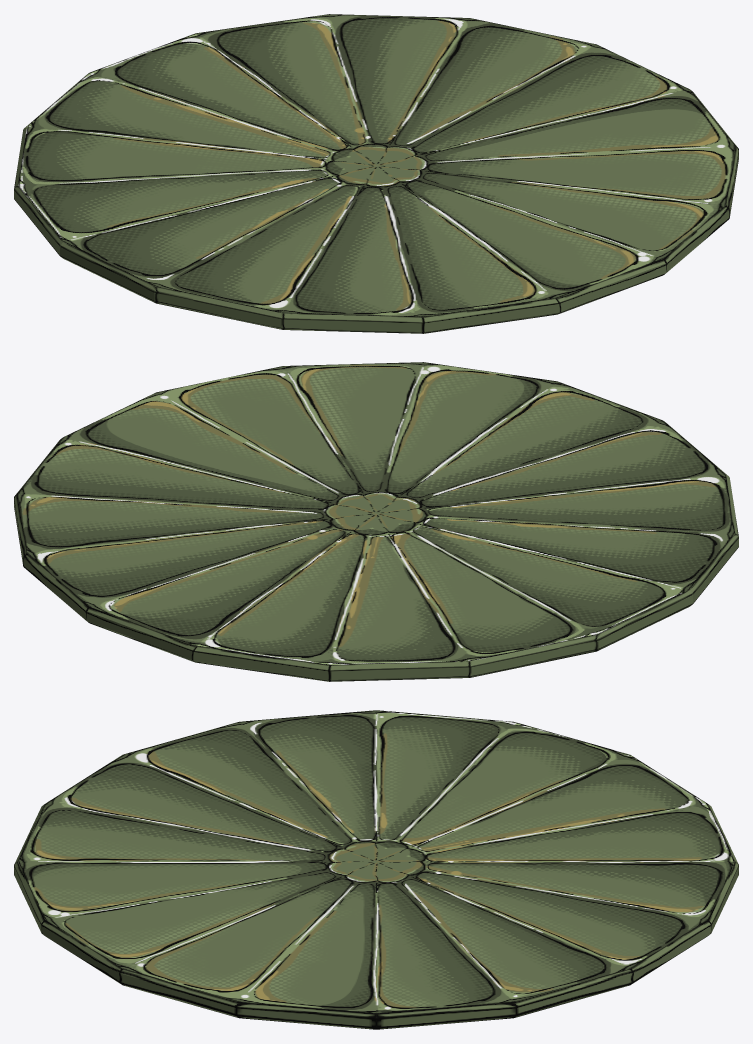
The model's file is GreenLilyPads-mockup002.fbx.
3 views of the same model, one above another, from view 1: azimuth 30°, elevation 25°; view 2: azimuth 150°, elevation 25°; view 3: azimuth 270°, elevation 25° (orthographic).
Parts seen in each view (by area): view 1: Cylinder.001; view 2: Cylinder.001; view 3: Cylinder.001.
Part boxes in pixels (x1,y1,x2,y2): Cylinder.001: (14, 14, 738, 333); Cylinder.001: (14, 362, 738, 681); Cylinder.001: (14, 710, 738, 1029).
Bounding box in the file's own units: 4000 × 99.46 × 4000.
